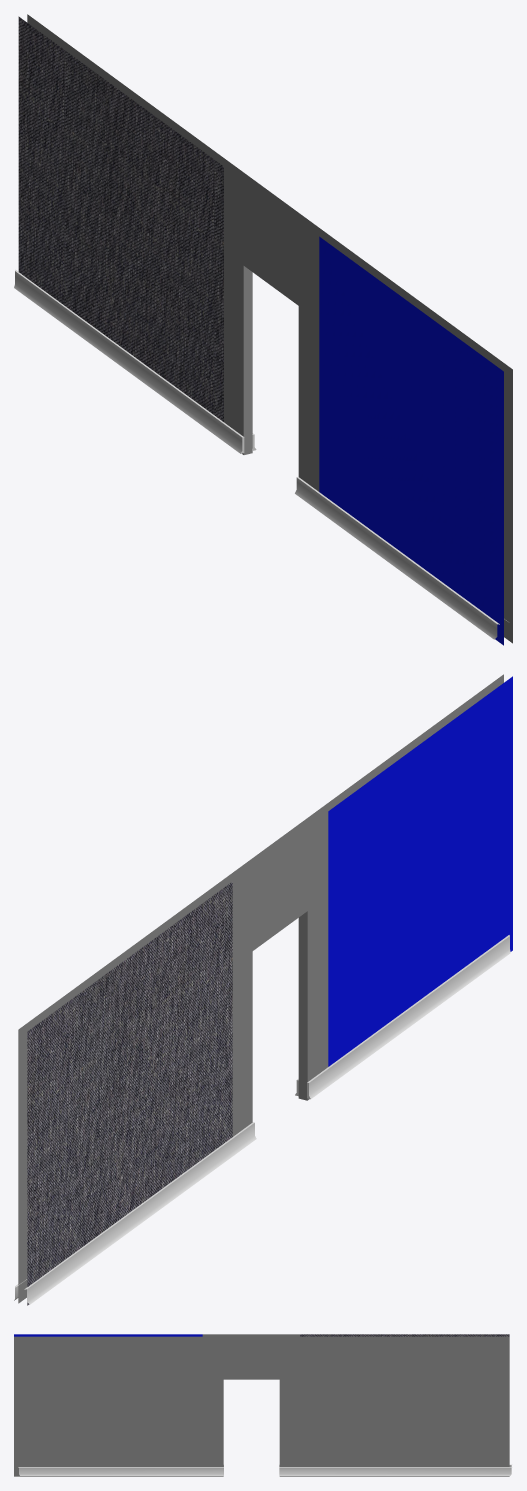
Rendered from FLAT_wall_01.FBX.
3 renders of one model, top to bottom at view 1: azimuth 30°, elevation 25°; view 2: azimuth 150°, elevation 25°; view 3: azimuth 270°, elevation 25°, orthographic. The views are drawn at different scales.
Visible parts, largest first — view 1: FLAT_wall_01, FLAT_wall_01_plinthe; view 2: FLAT_wall_01, FLAT_wall_01_plinthe; view 3: FLAT_wall_01, FLAT_wall_01_plinthe.
Part boxes in pixels (x1,y1,x2,y2): FLAT_wall_01: [18, 14, 512, 645]; FLAT_wall_01_plinthe: [14, 269, 507, 639]; FLAT_wall_01: [18, 674, 512, 1305]; FLAT_wall_01_plinthe: [14, 935, 510, 1304]; FLAT_wall_01: [14, 1334, 509, 1476]; FLAT_wall_01_plinthe: [18, 1464, 512, 1475].
Bounding box in the file's own units: 26.49 × 421 × 1360.
Materials: 6 (1 with a texture image).
